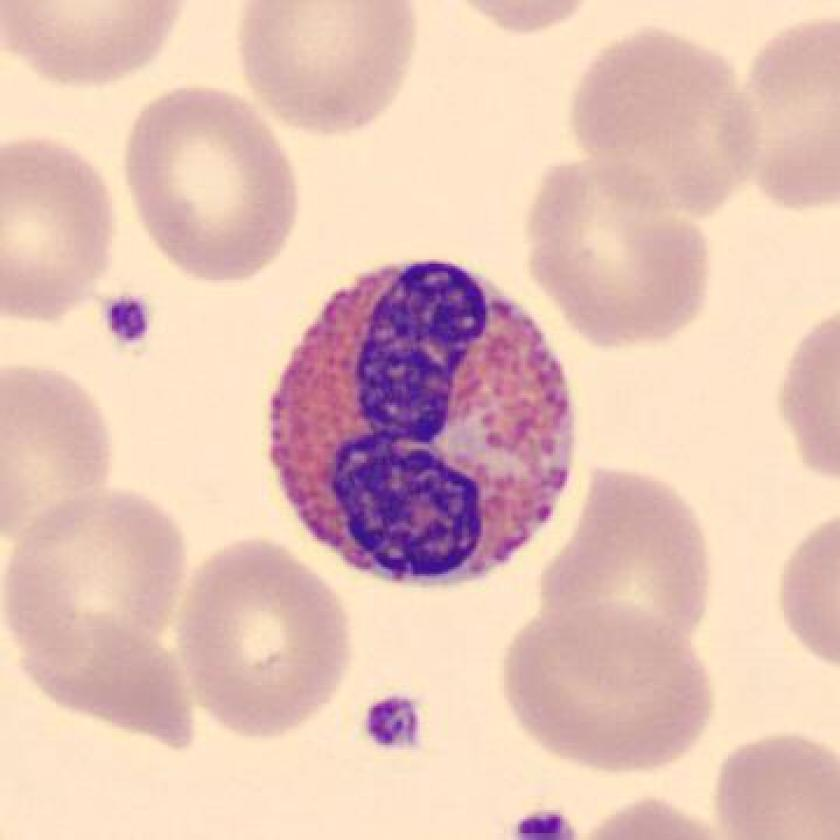eosinophil: (258, 239, 589, 612)
